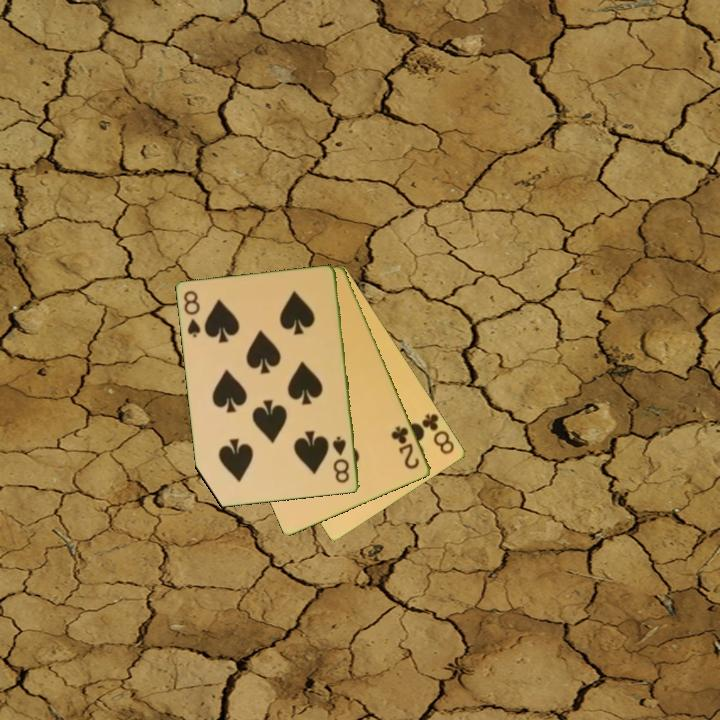2c: (388, 423, 423, 472)
8c: (418, 410, 458, 457)
8s: (180, 287, 204, 341), (329, 433, 352, 486)
